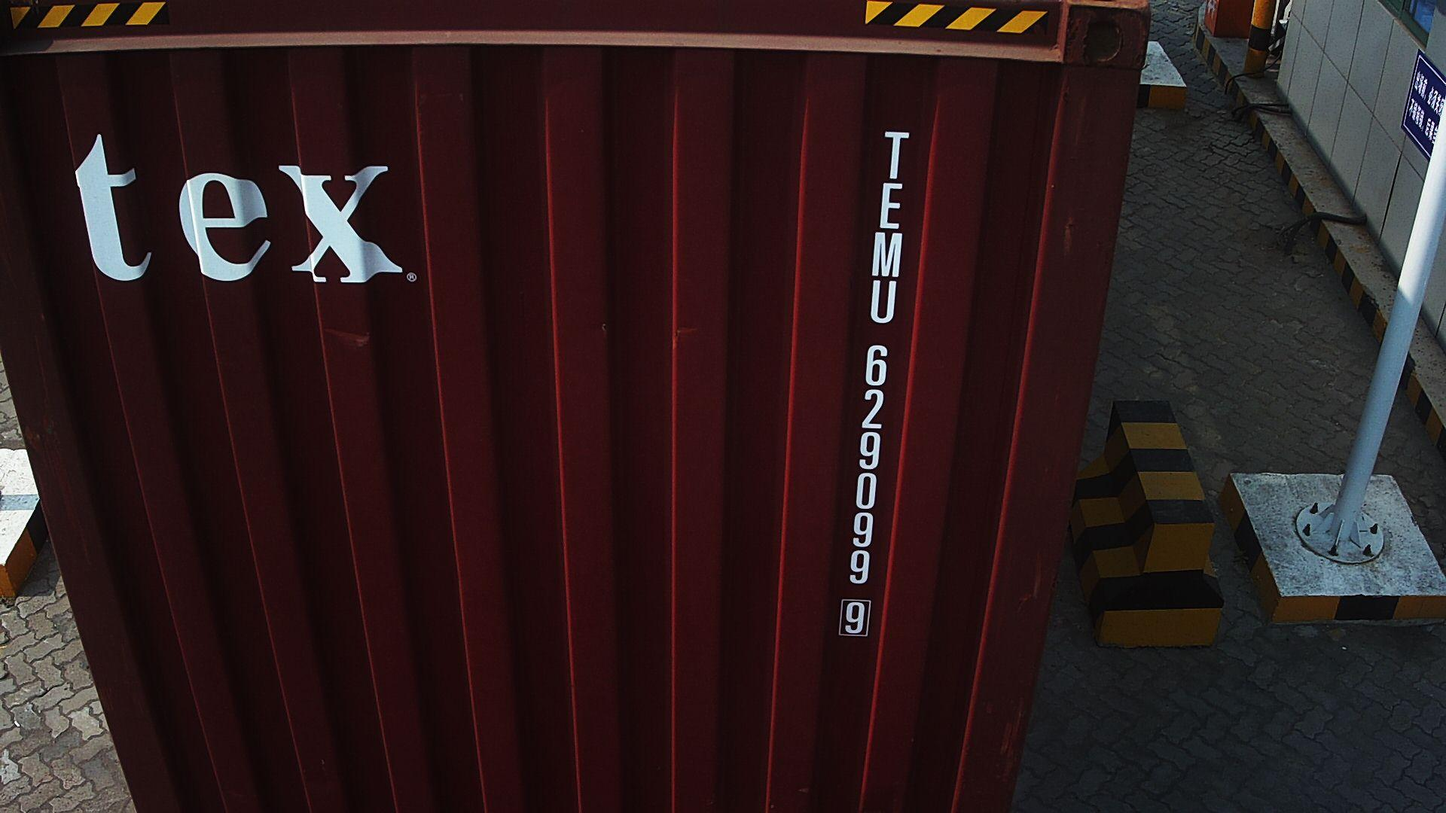container-numbers: (833, 126, 912, 641)
